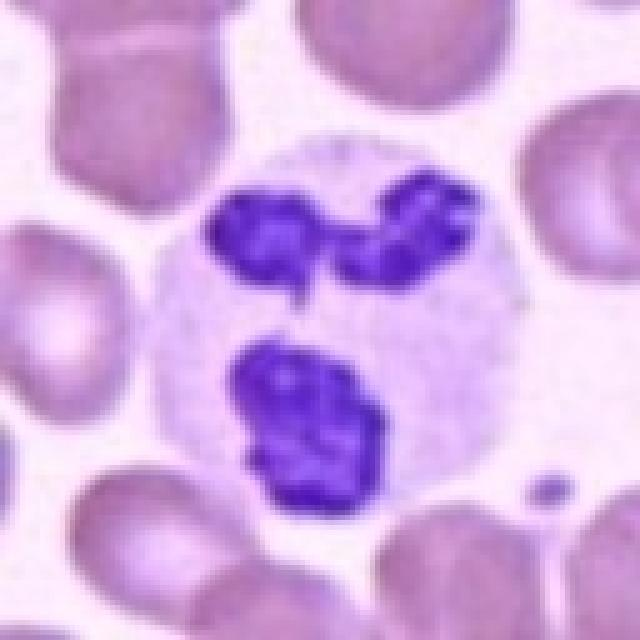neutro: (109, 128, 525, 503)
